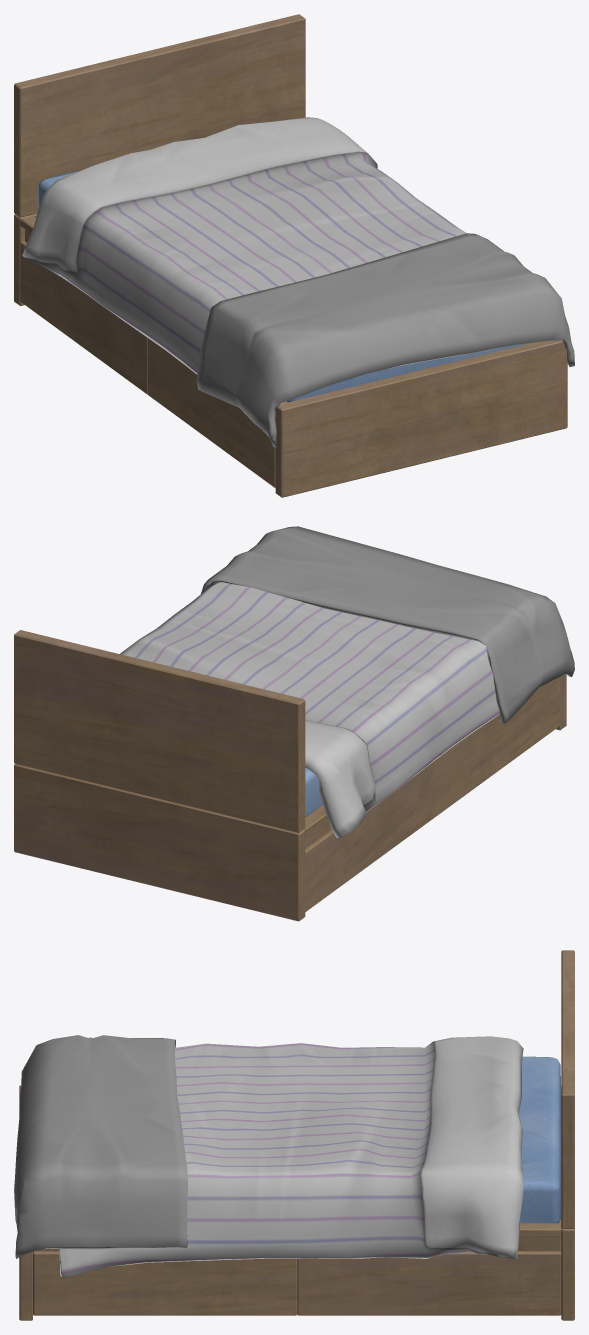
Rendered from bed1.gltf.
3 views of the same model, one above another, from view 1: azimuth 30°, elevation 25°; view 2: azimuth 150°, elevation 25°; view 3: azimuth 270°, elevation 25° (orthographic). The views are drawn at different scales.
Parts seen in each view (by area): view 1: EdithRoomBed_a; view 2: EdithRoomBed_a; view 3: EdithRoomBed_a.
Boxes of the visible parts, bbox=[...] form: EdithRoomBed_a: bbox=[14, 14, 574, 497]; EdithRoomBed_a: bbox=[14, 526, 574, 921]; EdithRoomBed_a: bbox=[14, 950, 574, 1320].
Size of the model in its own units: 1.42 by 0.889 by 1.99.
Materials: 4 (4 with a texture image).
